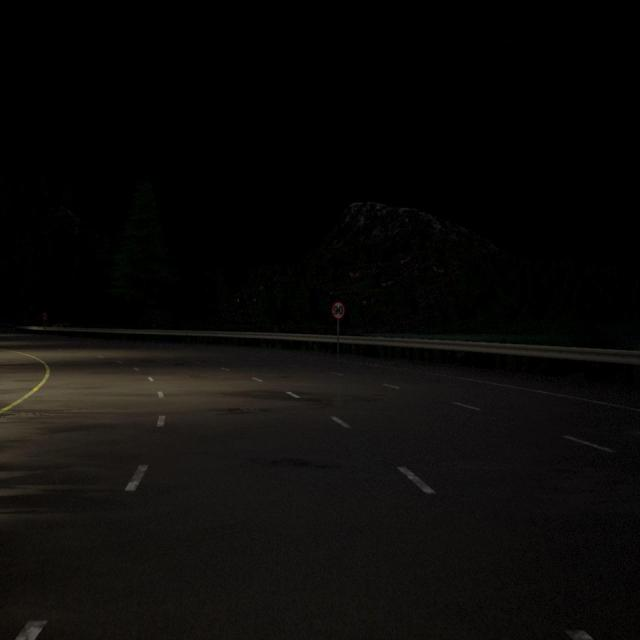Traffic_Signs: (331, 302, 345, 319), (42, 312, 47, 320)
